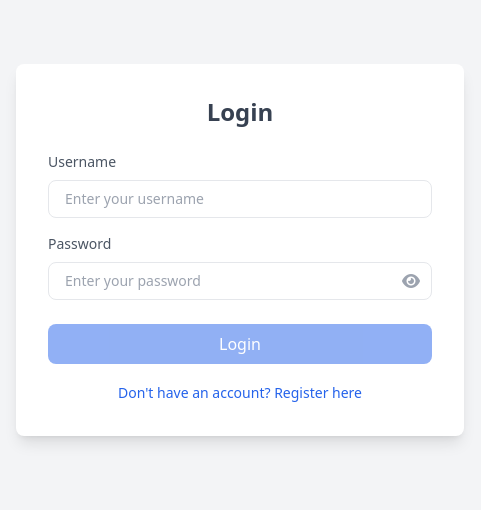
Login Page › Login Functionality › should handle network error during login
Step 1. Type "testuser" into the field named "username" → (240, 199), box [48,180,432,218]
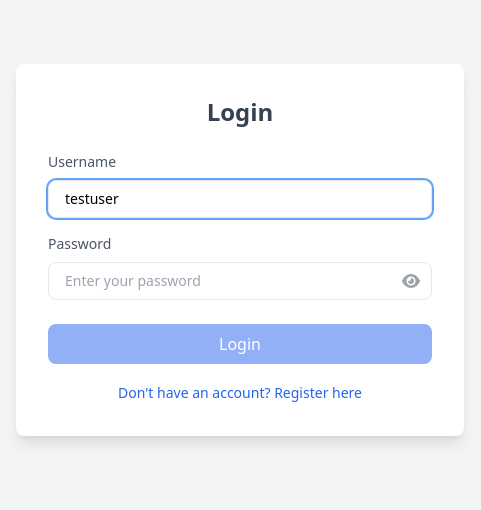
Step 2. Type "password123" into the password field named "password" → (240, 281), box [48,262,432,300]
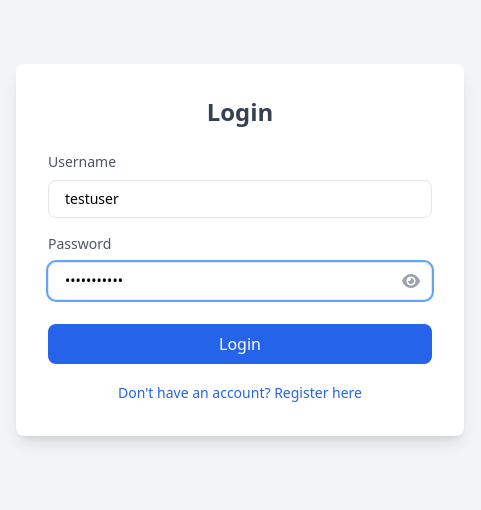
Step 3. Click the submit button → (240, 344), box [48,324,432,364]
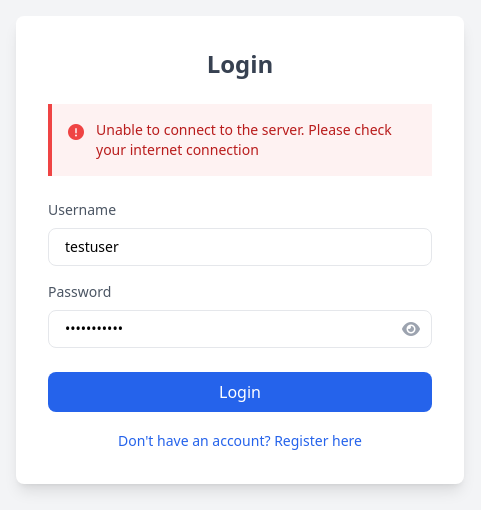
Expected: the text "Unable to connect to the server" is shown, [96,120,392,159]
